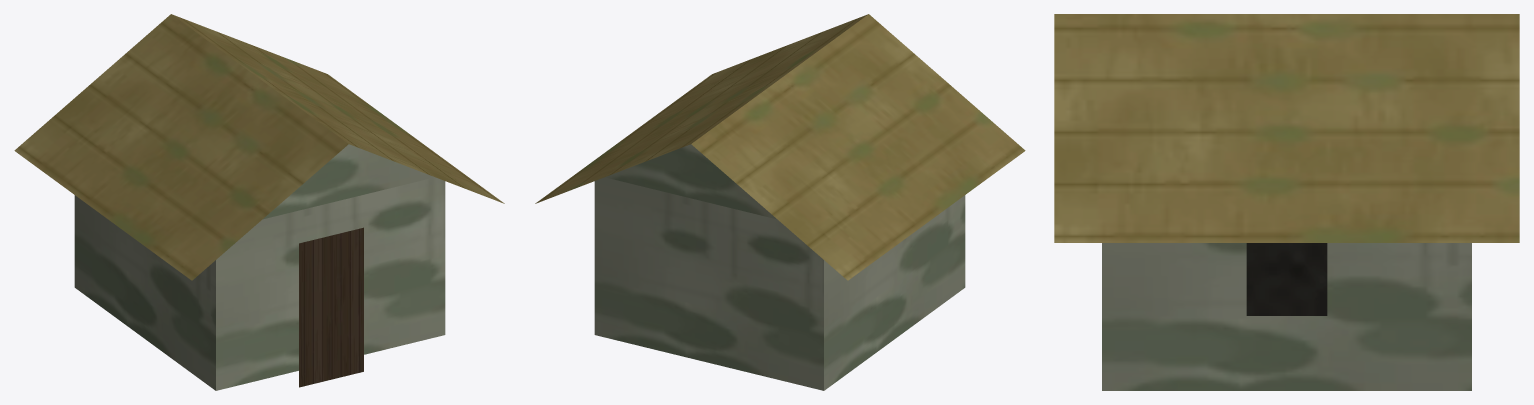
The model's file is ae_jungle_stone_small_hut_lod2.glb.
3 renders of one model, left to right at view 1: azimuth 30°, elevation 25°; view 2: azimuth 150°, elevation 25°; view 3: azimuth 270°, elevation 25°, orthographic. The views are drawn at different scales.
Visible parts, largest first — view 1: ae_jungle_stone_small_hut_lod2; view 2: ae_jungle_stone_small_hut_lod2; view 3: ae_jungle_stone_small_hut_lod2.
Part boxes in pixels (x1,y1,x2,y2): ae_jungle_stone_small_hut_lod2: [14, 14, 504, 390]; ae_jungle_stone_small_hut_lod2: [535, 14, 1025, 390]; ae_jungle_stone_small_hut_lod2: [1054, 14, 1519, 390].
Bounding box in the file's own units: 4.1 × 3.1 × 4.02.
Materials: 1 (1 with a texture image).
